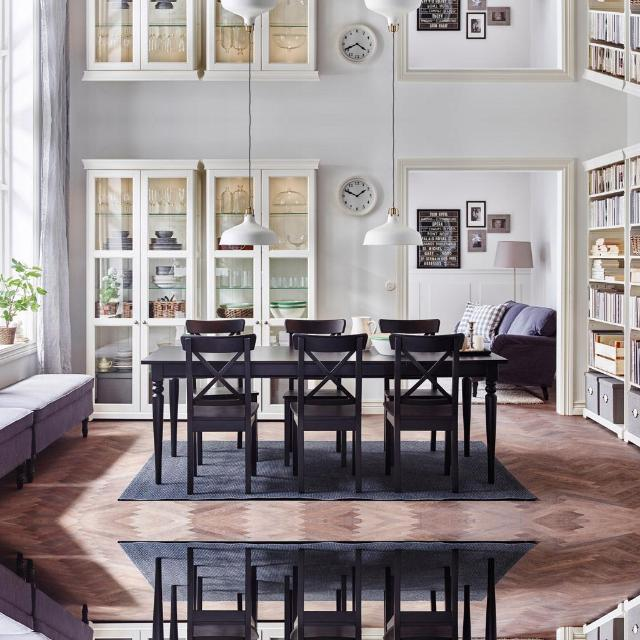chair: (181, 335, 259, 493), (384, 334, 461, 492), (290, 334, 365, 493), (384, 550, 458, 640), (187, 548, 259, 640), (290, 549, 361, 640), (285, 318, 346, 346), (185, 318, 245, 335), (379, 318, 440, 333)
clock: (339, 175, 378, 215), (339, 23, 378, 63)
couch: (454, 300, 556, 398)
curtain: (39, 119, 71, 373), (40, 0, 69, 119)
lamp: (494, 240, 534, 300)
light: (362, 119, 421, 245), (220, 119, 279, 245), (364, 0, 421, 119), (221, 0, 277, 119)
plant: (0, 258, 46, 343)
rug: (119, 440, 534, 500), (119, 542, 534, 602)
shelf: (82, 159, 202, 418), (205, 159, 319, 345), (582, 143, 640, 445), (82, 0, 202, 79), (205, 0, 319, 79), (584, 0, 640, 95)
wall-art: (416, 208, 460, 267), (416, 0, 460, 30), (466, 200, 486, 226), (466, 12, 486, 38), (468, 228, 486, 251), (488, 214, 510, 232), (488, 6, 510, 24), (468, 0, 486, 10)
